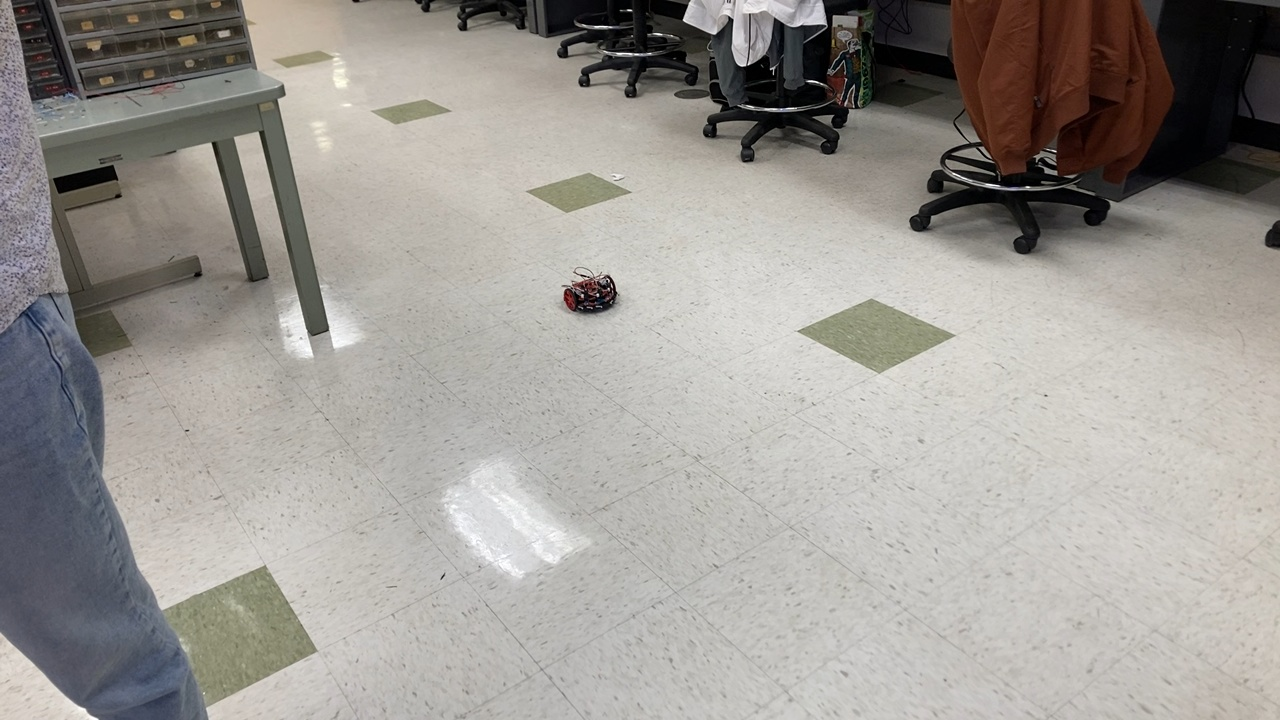robot: (561, 262, 623, 319)
